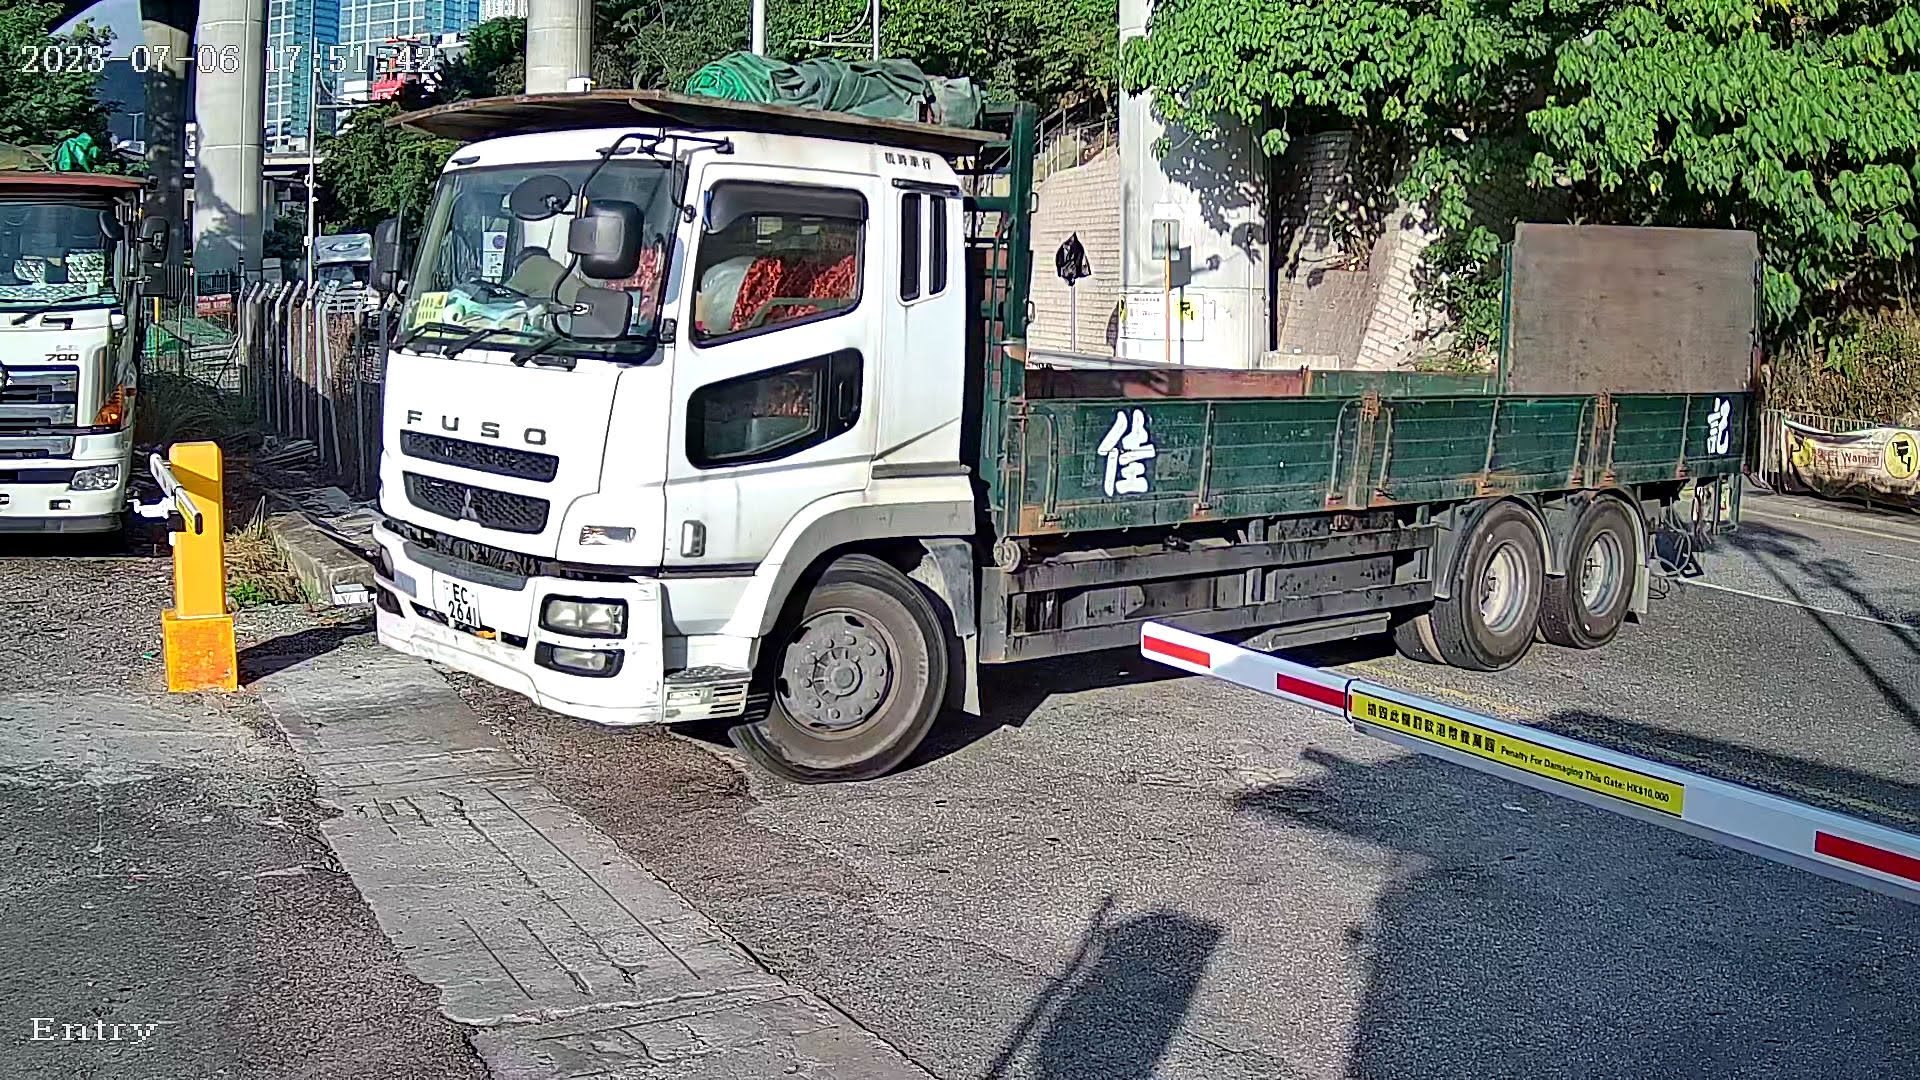truck_large: (324, 1, 1800, 822)
